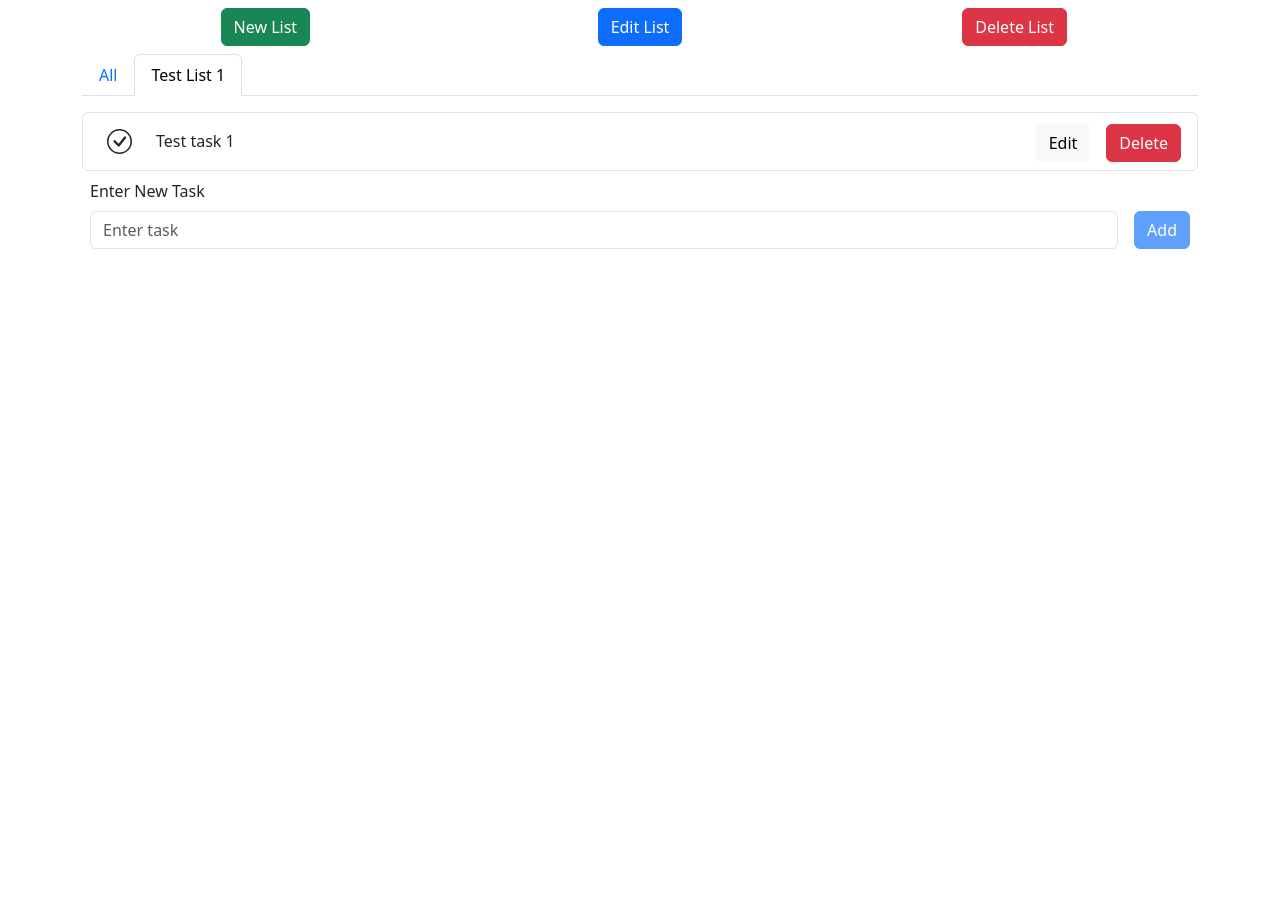
Test case: edits list
Click the button "Edit List" at (640, 27), box 598,8 -> 682,46
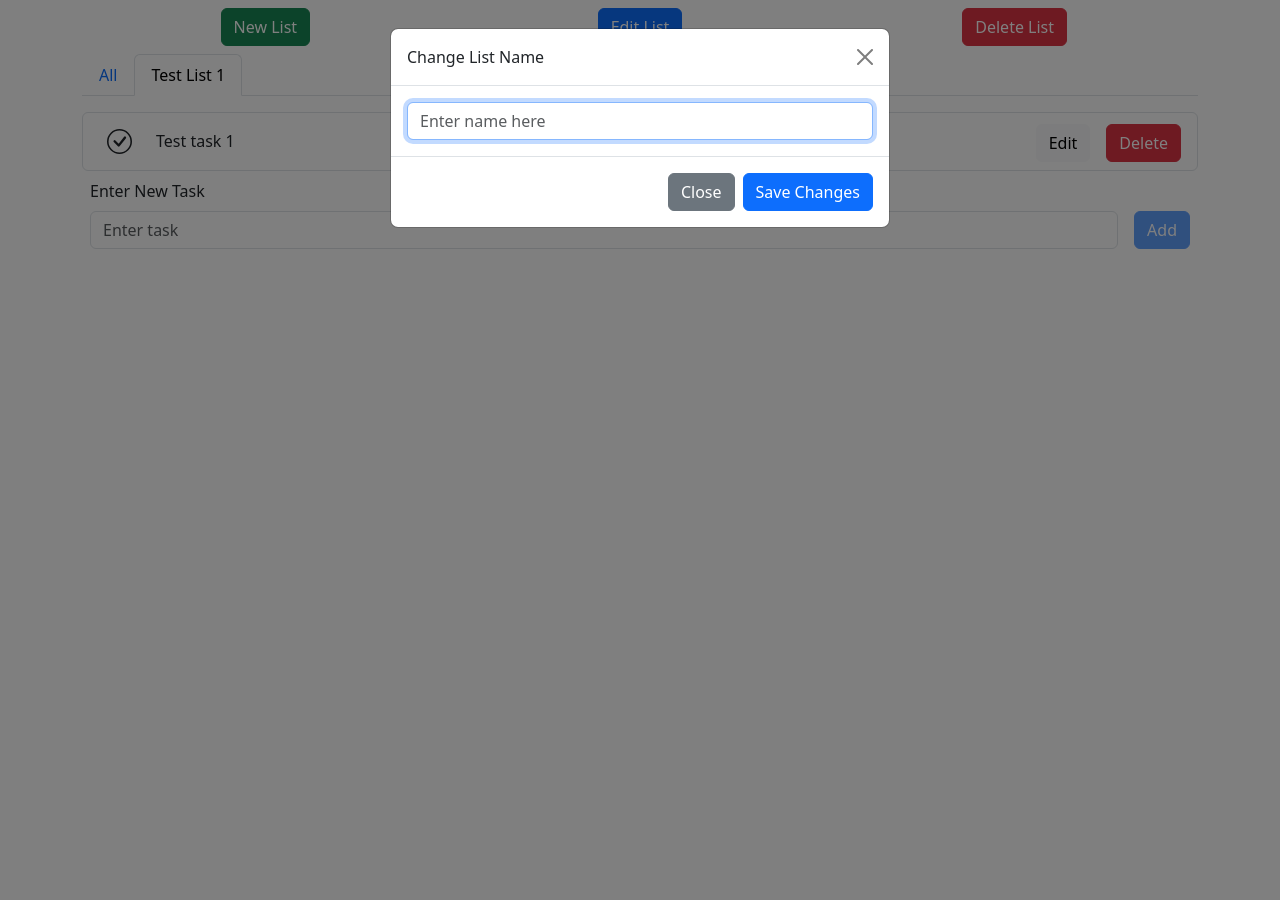
Type "Test List 2" into the field with placeholder "Enter name here" at (640, 121), box 407,102 -> 873,140
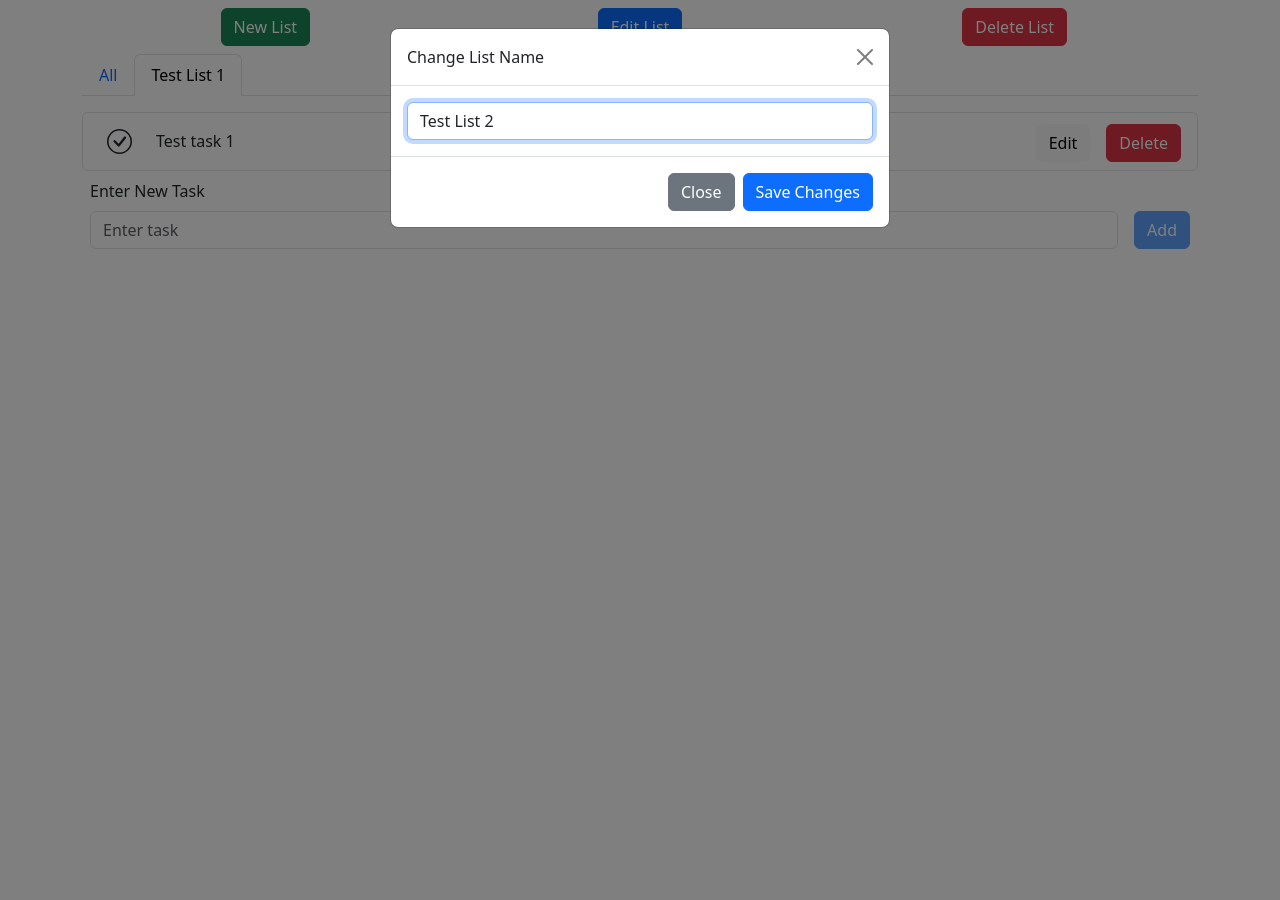
Click the button "Save Changes" at (808, 192), box 742,173 -> 873,211
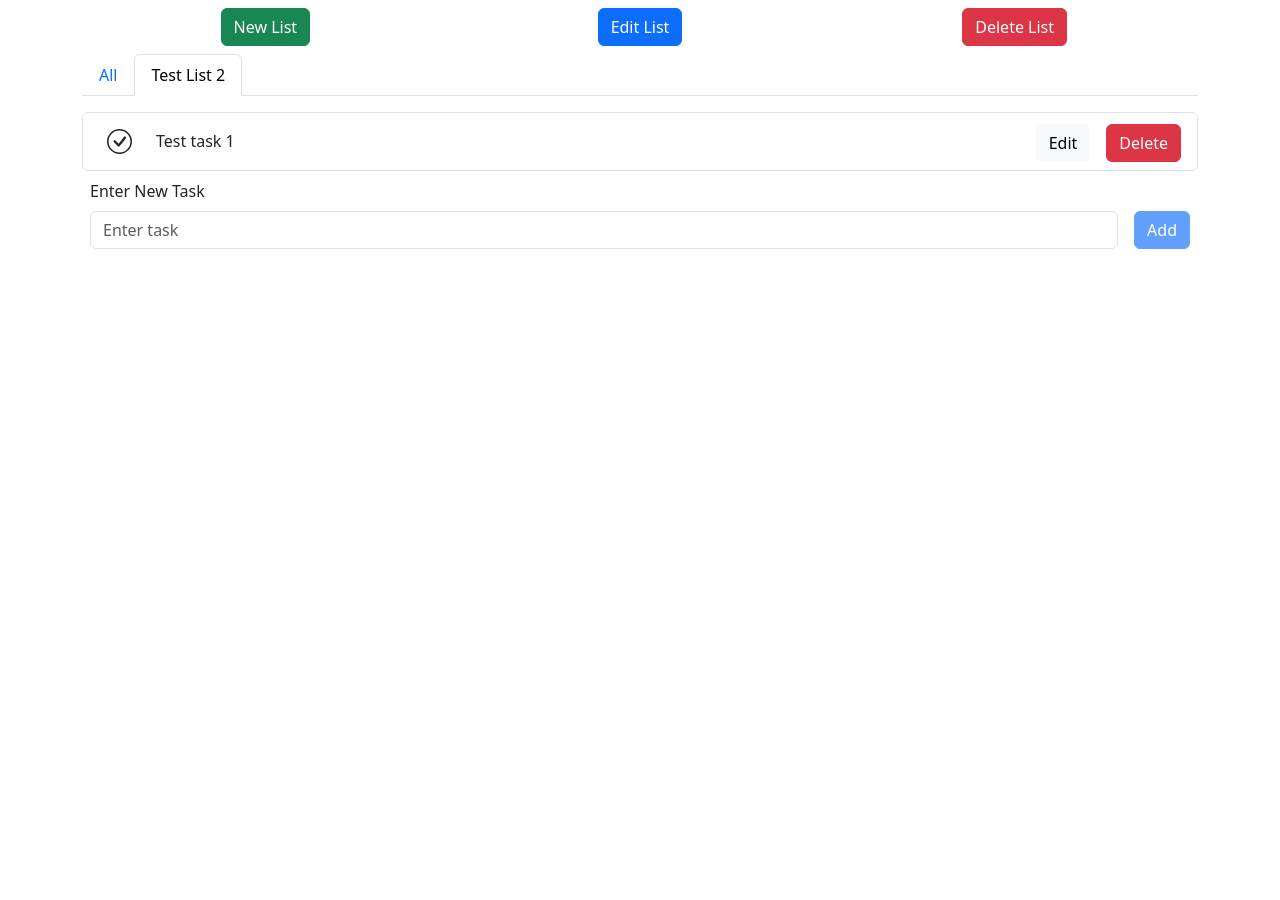
Check: the tab "Test List 2" is shown, box 134,54 -> 242,96
